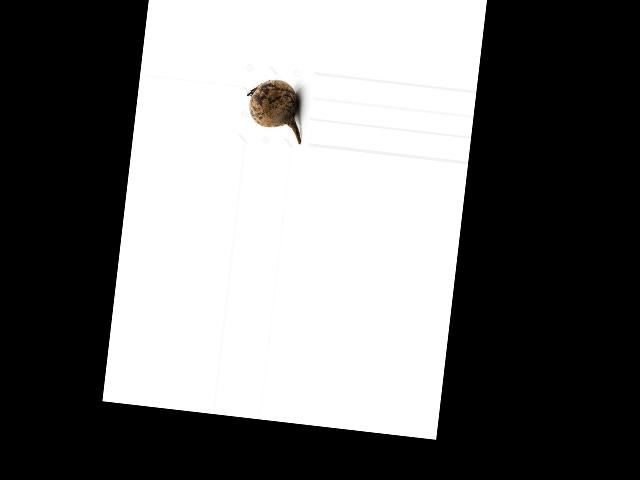beet: (242, 76, 307, 143)
